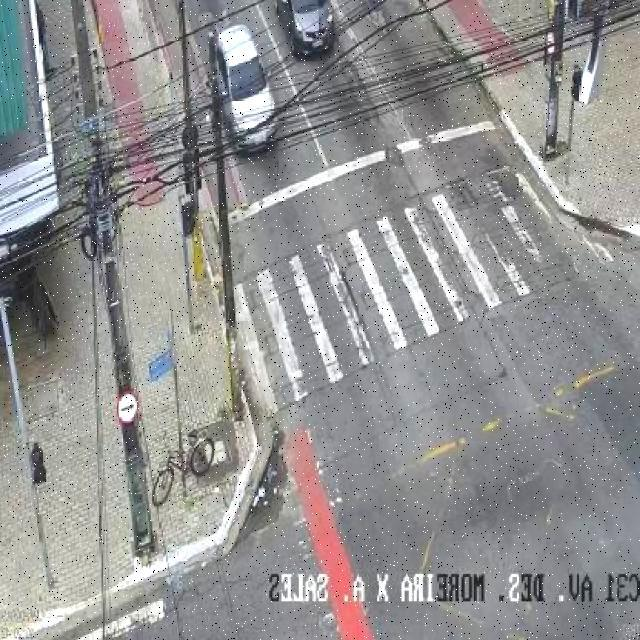Car: (211, 23, 280, 154), (274, 0, 335, 58)
Cycle: (150, 430, 217, 508)
